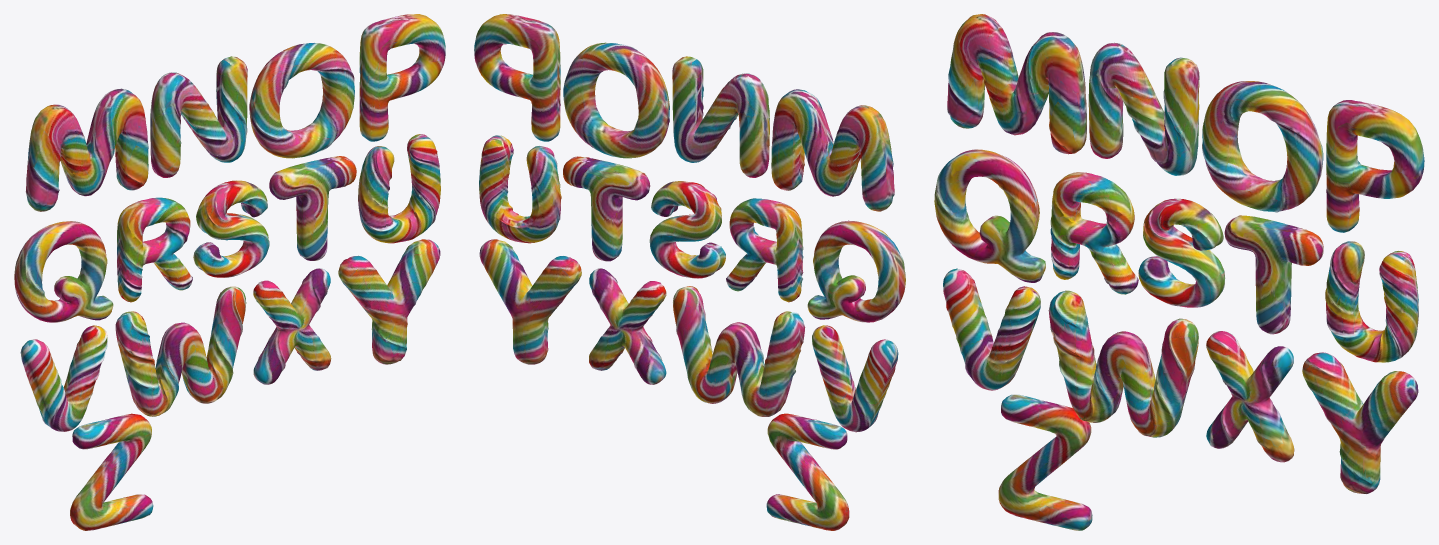
The picture shows the model from 3 angles, left to right: view 1: azimuth 30°, elevation 25°; view 2: azimuth 150°, elevation 25°; view 3: azimuth 330°, elevation 25°; orthographic projection. The views are drawn at different scales.
Visible parts, largest first — view 1: model_part2, model_part4, model_part6, model_part8, model_part13, model_part0, model_part11, model_part12, model_part3, model_part5, model_part9, model_part7 (+2 smaller); view 2: model_part2, model_part4, model_part8, model_part6, model_part13, model_part0, model_part11, model_part3, model_part12, model_part5, model_part7, model_part9 (+2 smaller); view 3: model_part2, model_part4, model_part6, model_part8, model_part0, model_part13, model_part11, model_part12, model_part5, model_part7, model_part3, model_part9 (+2 smaller).
Part boxes in pixels (<box>): model_part2: <box>25,88,148,211</box>; model_part4: <box>115,286,246,416</box>; model_part6: <box>150,56,247,177</box>; model_part8: <box>249,43,354,158</box>; model_part13: <box>359,14,445,141</box>; model_part0: <box>14,221,113,322</box>; model_part11: <box>338,239,440,364</box>; model_part12: <box>358,134,440,243</box>; model_part3: <box>70,413,153,530</box>; model_part5: <box>117,197,192,302</box>; model_part9: <box>253,268,331,384</box>; model_part7: <box>193,180,269,277</box>; model_part2: <box>771,89,894,211</box>; model_part4: <box>673,286,805,416</box>; model_part8: <box>563,42,669,158</box>; model_part6: <box>672,56,769,177</box>; model_part13: <box>474,14,560,141</box>; model_part0: <box>807,220,905,322</box>; model_part11: <box>479,239,581,364</box>; model_part3: <box>766,413,849,530</box>; model_part12: <box>479,135,561,243</box>; model_part5: <box>726,198,803,302</box>; model_part7: <box>649,181,725,278</box>; model_part9: <box>589,268,666,384</box>; model_part2: <box>947,14,1086,154</box>; model_part4: <box>1048,290,1198,437</box>; model_part6: <box>1088,42,1199,175</box>; model_part8: <box>1202,81,1323,212</box>; model_part0: <box>934,149,1045,282</box>; model_part13: <box>1326,100,1424,232</box>; model_part11: <box>1302,352,1418,493</box>; model_part12: <box>1325,241,1418,362</box>; model_part5: <box>1050,172,1138,294</box>; model_part7: <box>1138,198,1225,307</box>; model_part3: <box>998,394,1092,530</box>; model_part9: <box>1206,331,1294,462</box>.
Bounding box in the file's own units: 1.9 × 1.86 × 0.1204.
Materials: 1 (1 with a texture image).
